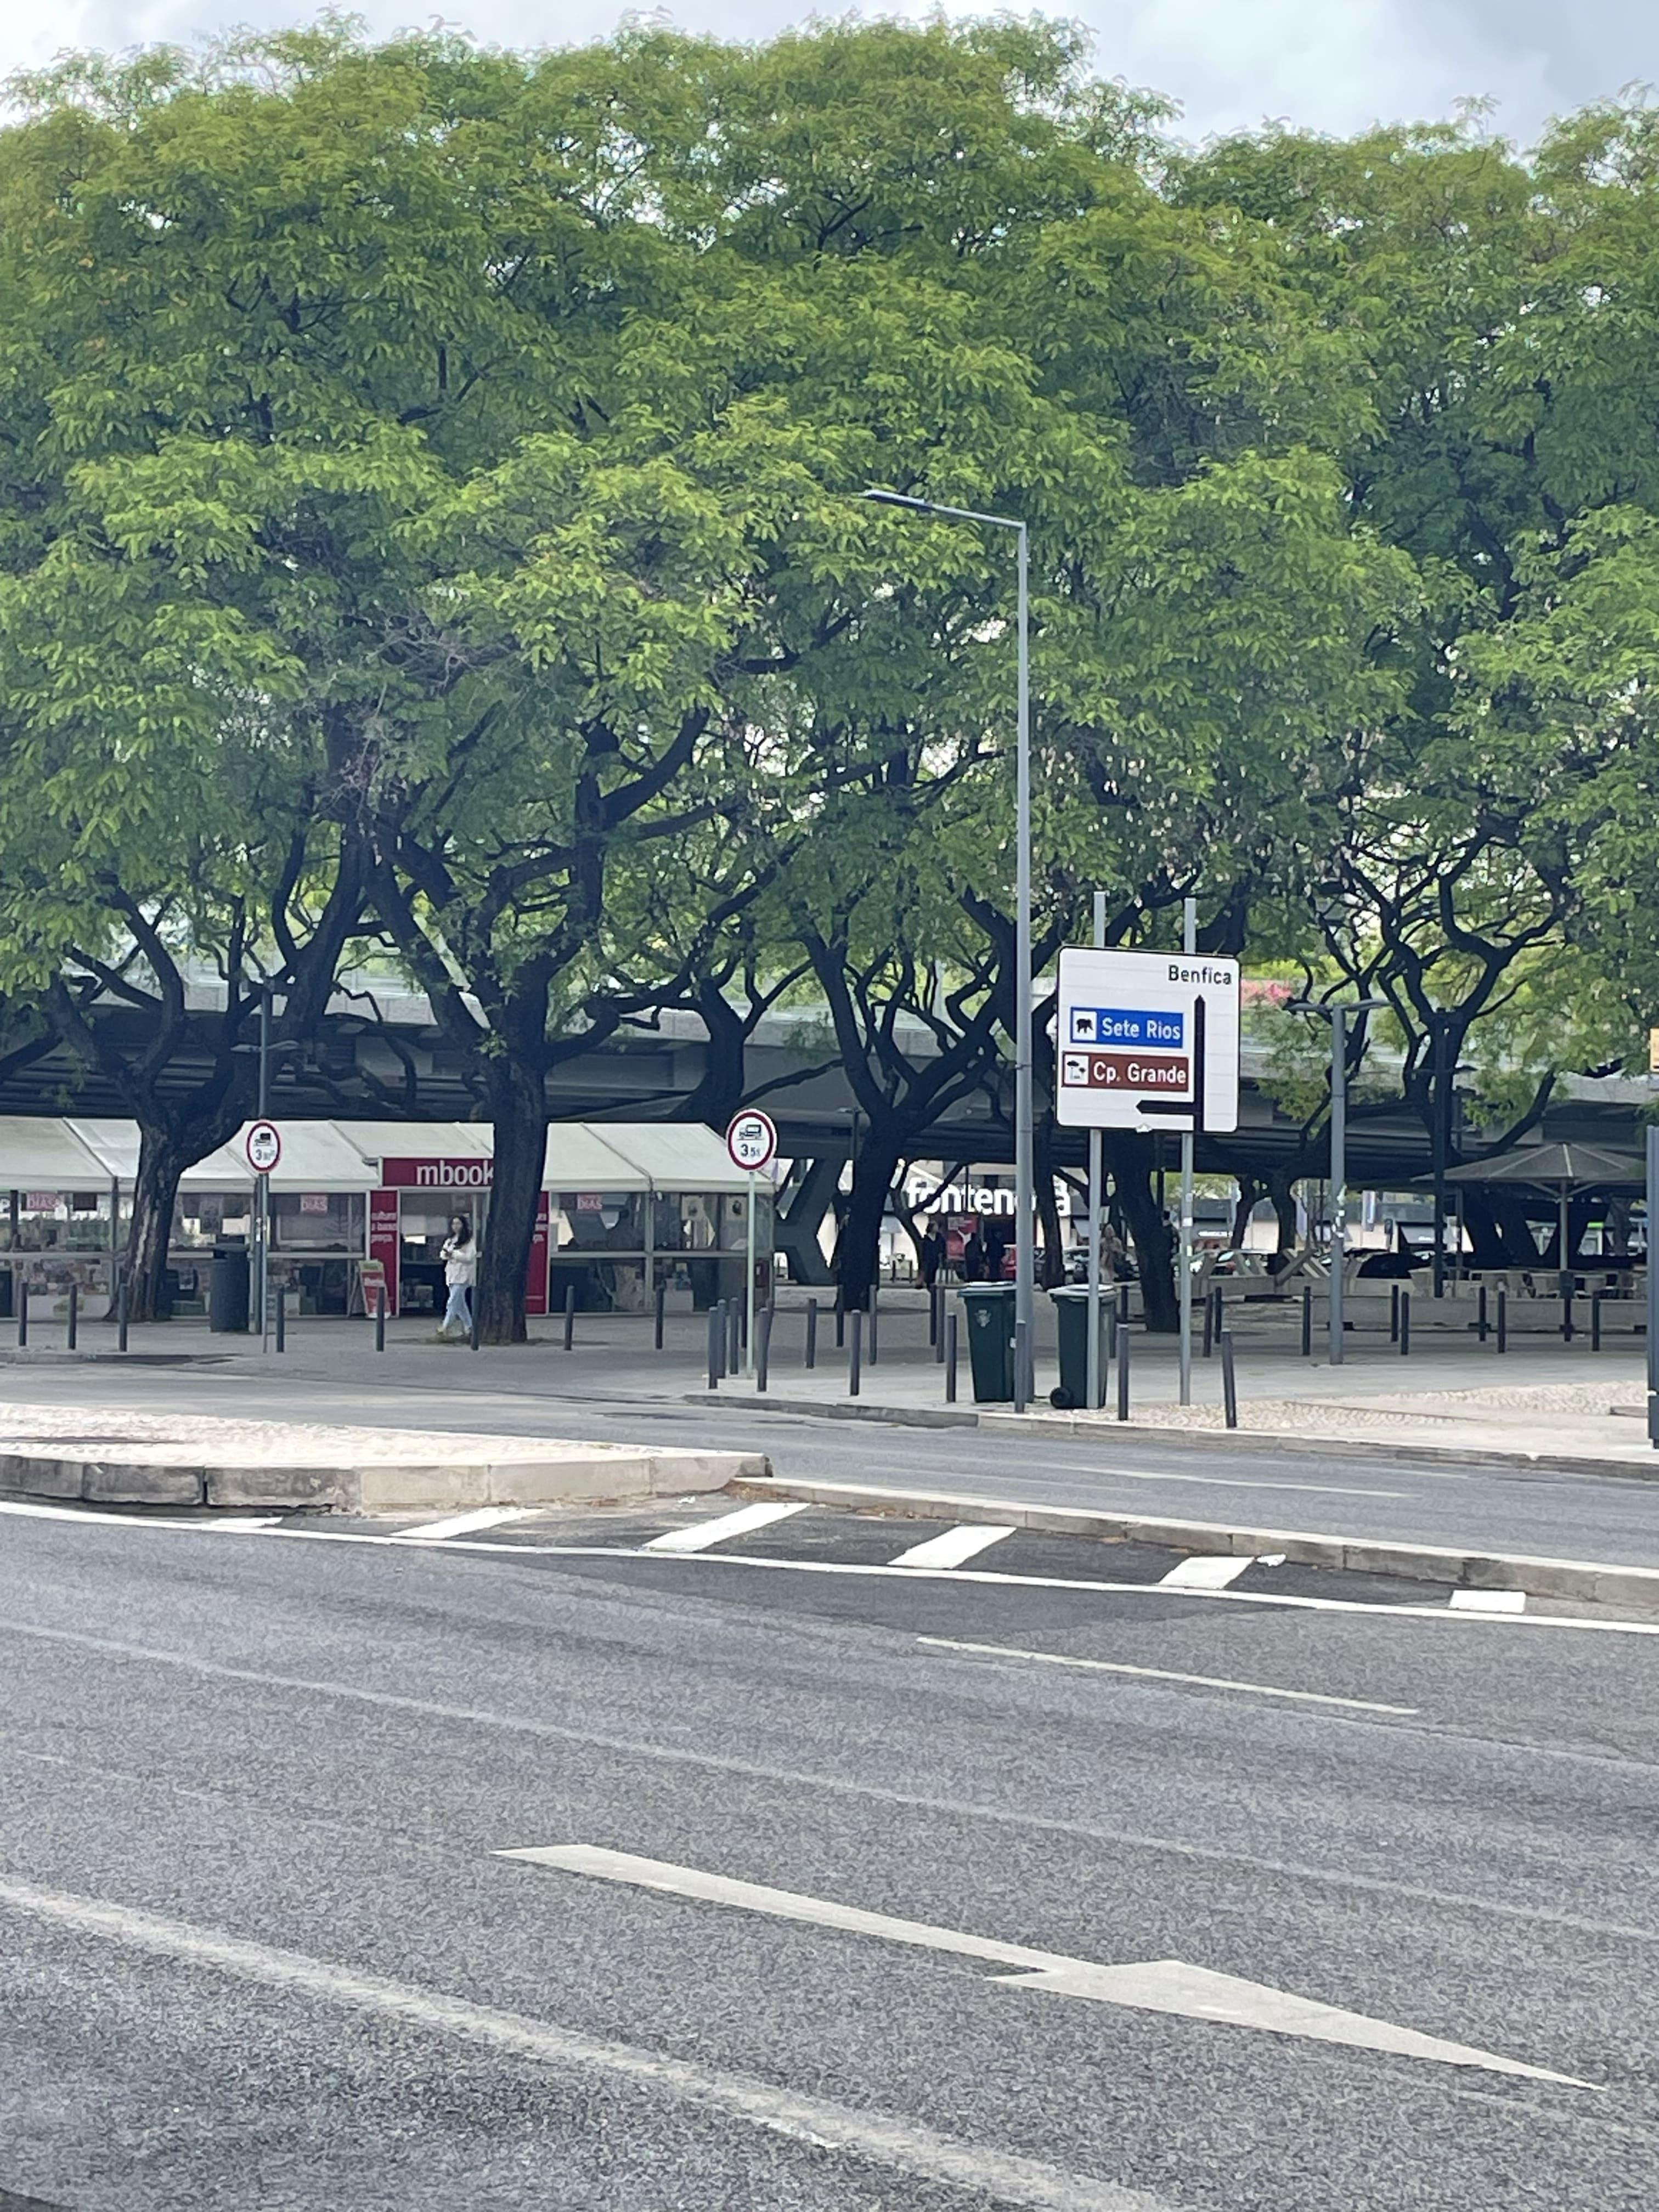pre-aviso grafico: (1051, 928, 1251, 1144)
